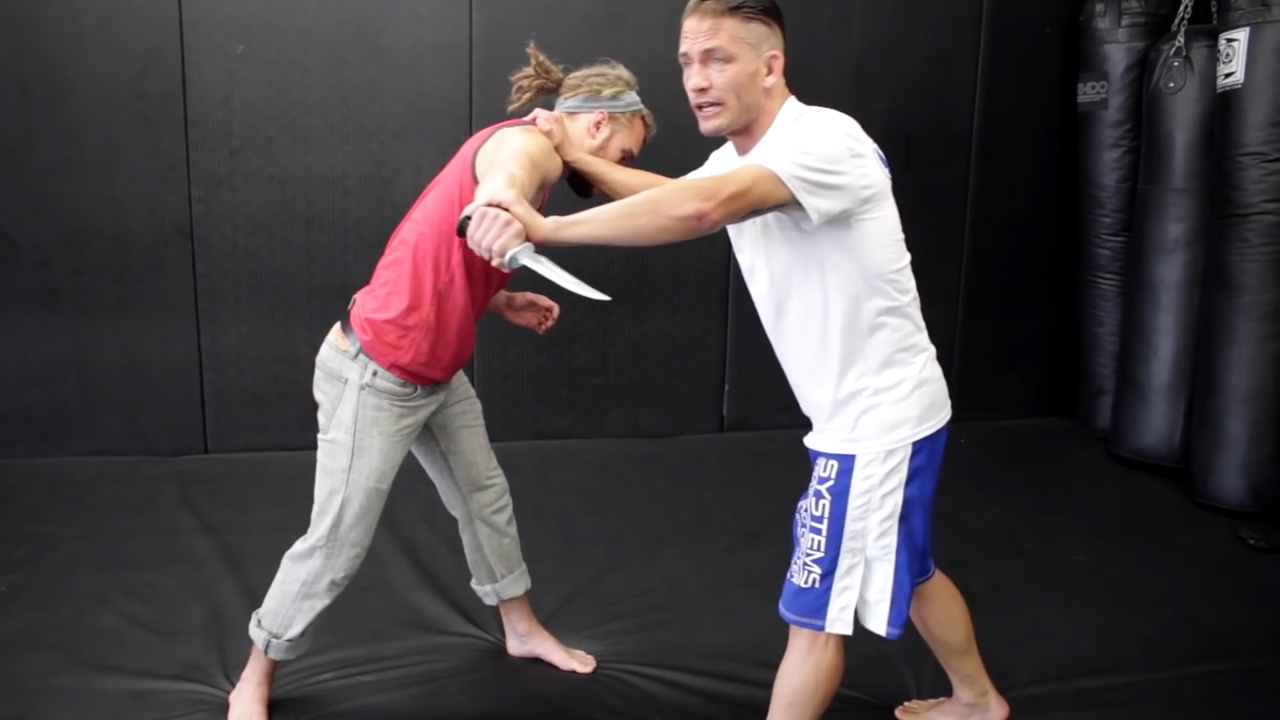knife: (440, 200, 622, 308)
